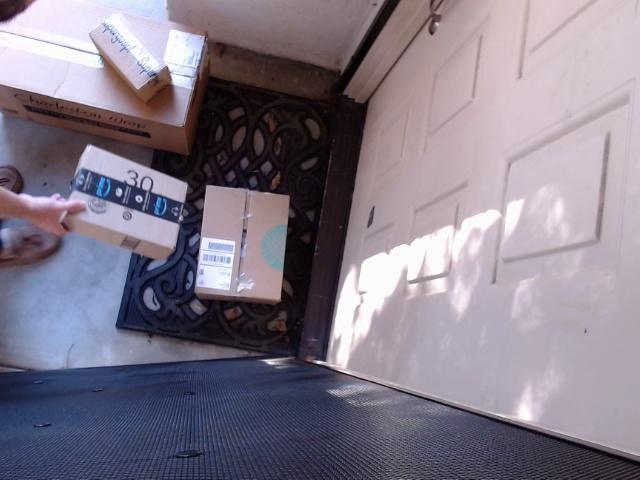box: (0, 0, 228, 139), (191, 178, 301, 319), (62, 146, 179, 265), (84, 5, 184, 95)
